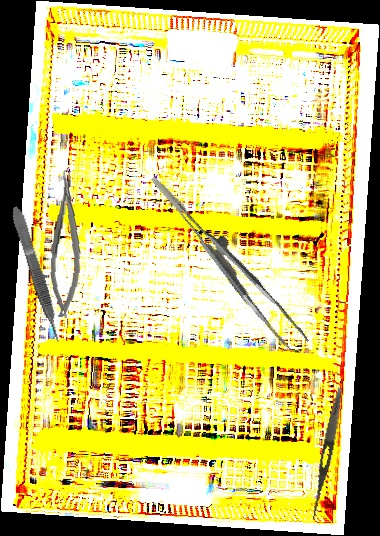Dressing Forceps: (308, 386, 346, 523)
Needle Holder: (46, 169, 87, 319)
Tissue Forceps: (151, 154, 309, 366), (8, 204, 65, 346)
